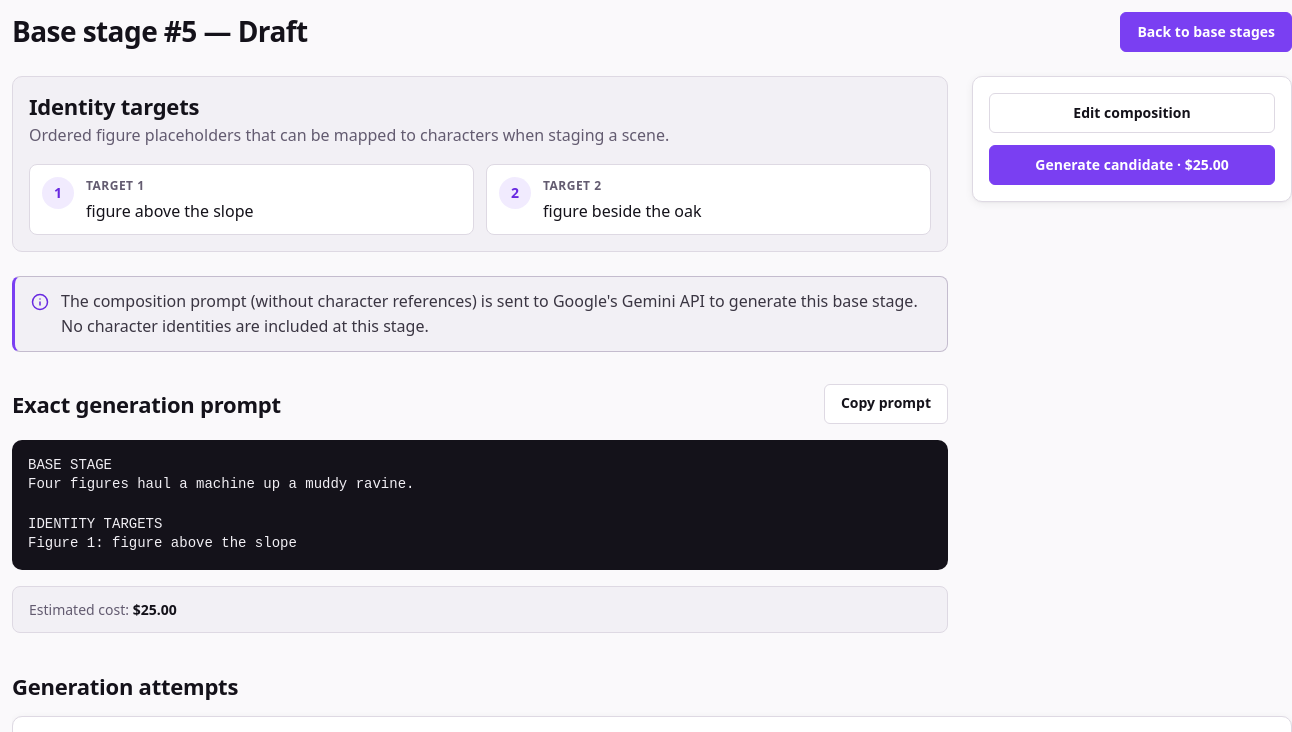
BaseStagePreviewPage › reports a stale prompt hash from the backend as a changed-input notice
The image size is (1292, 732).
Click the button "Generate candidate · $25.00".
click(1132, 165)  # box [989,145,1275,185]
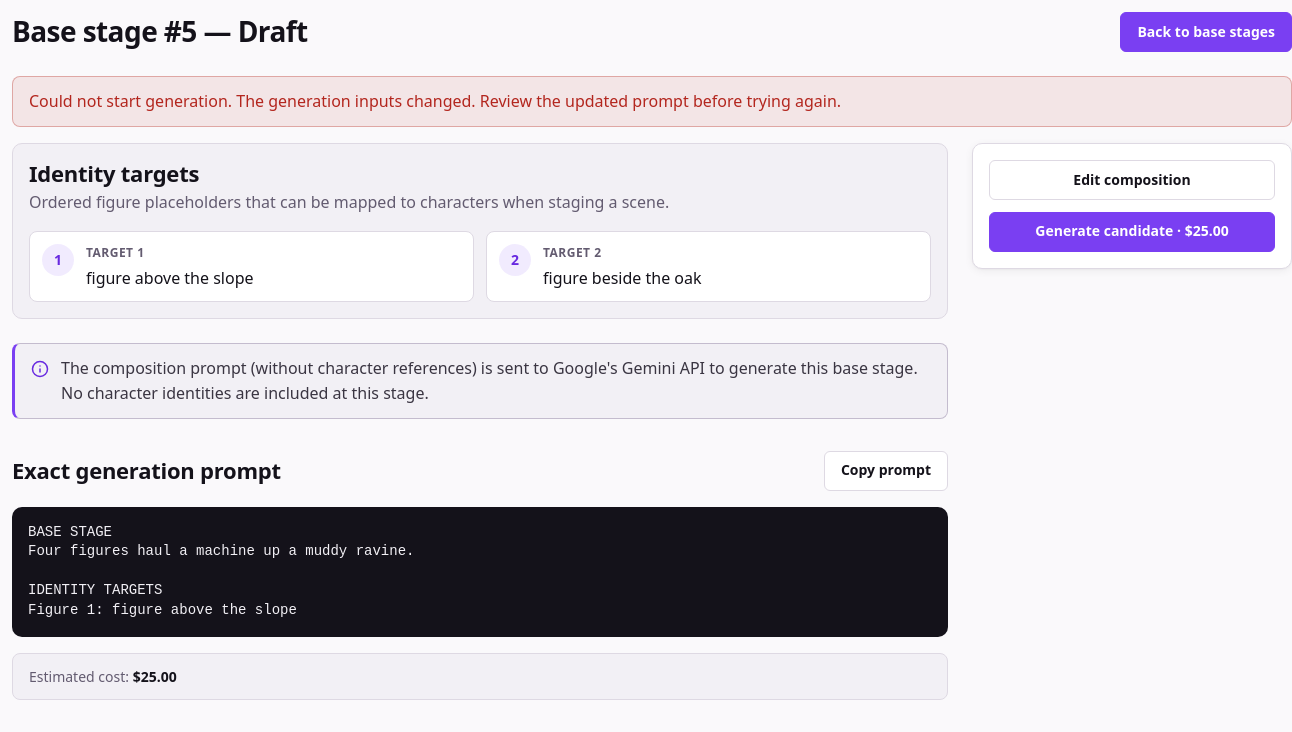
Now the text "The generation inputs changed" is shown, box [29,90,841,112]
